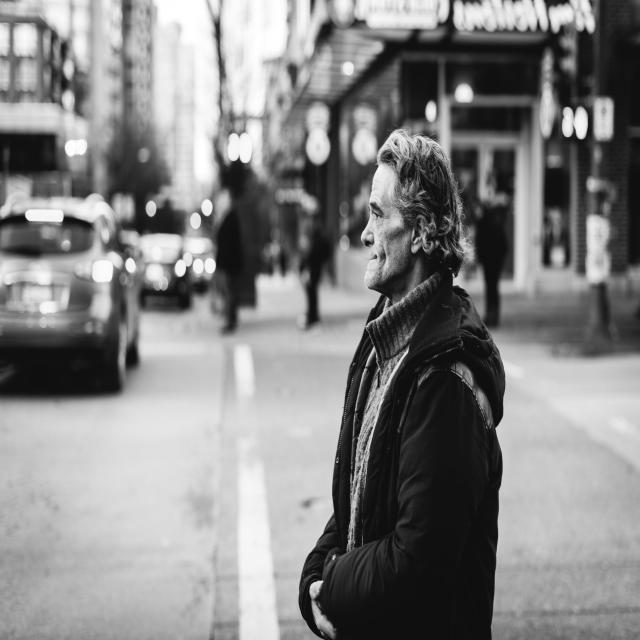adult: (297, 130, 501, 640)
